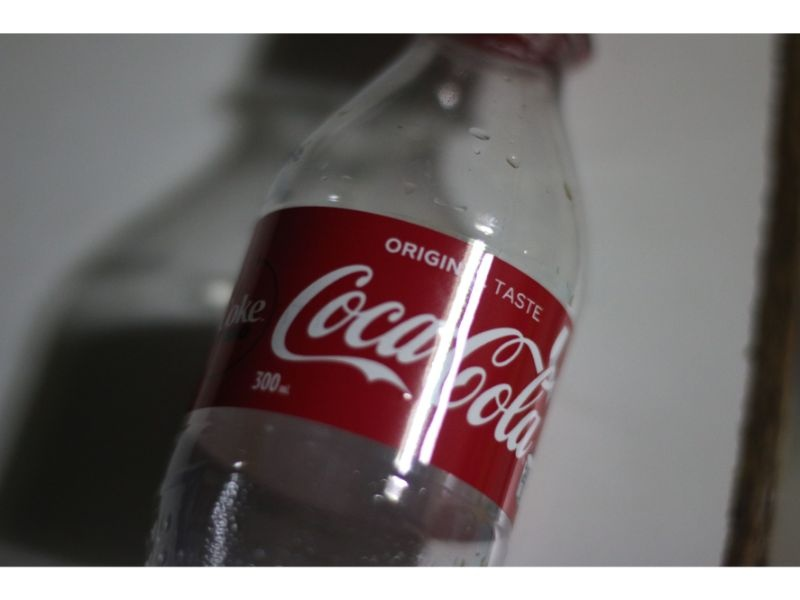PET #1: (139, 35, 603, 564)
